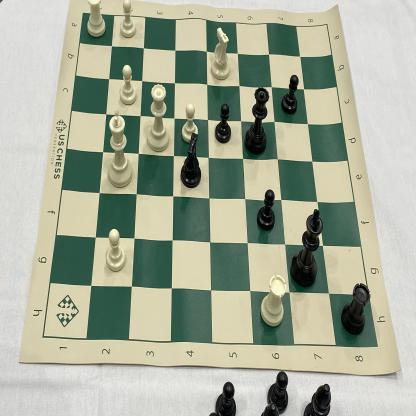black-king: (288, 207, 324, 292)
black-knight: (174, 132, 206, 189)
black-pawn: (278, 69, 300, 118), (255, 188, 276, 236), (213, 102, 233, 148)
black-queen: (242, 83, 270, 160)
black-rook: (338, 279, 371, 341)
white-king: (104, 107, 135, 191)
white-knight: (207, 24, 233, 84)
white-pawn: (177, 98, 201, 147), (103, 226, 127, 273), (116, 61, 138, 107), (116, 0, 138, 41)
white-queen: (146, 80, 169, 154)
white-rook: (259, 270, 288, 330), (84, 0, 109, 39)
